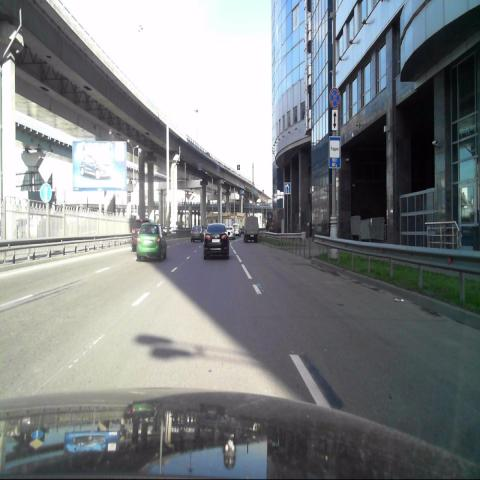7_15: (328, 136, 342, 168)
